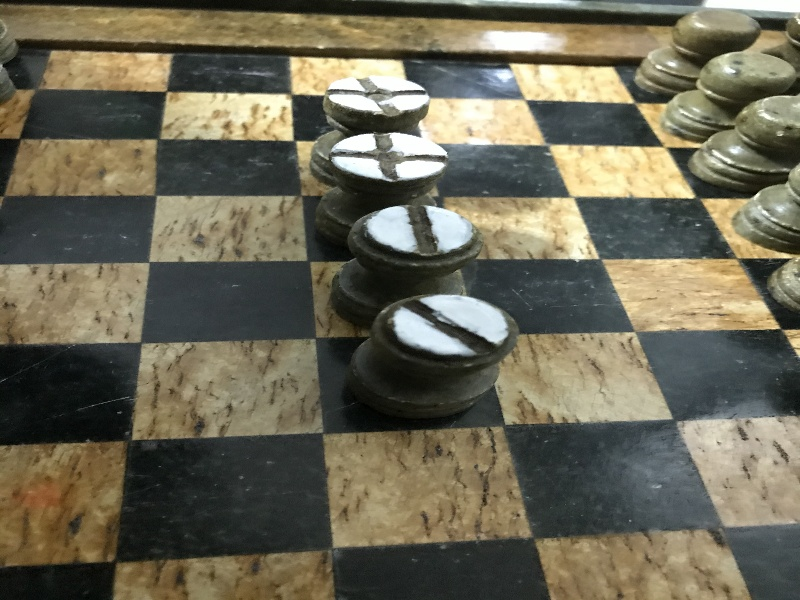WhiteBishop: (316, 133, 448, 222), (311, 75, 429, 169)
WhiteRook: (356, 294, 518, 415), (331, 204, 483, 311)
